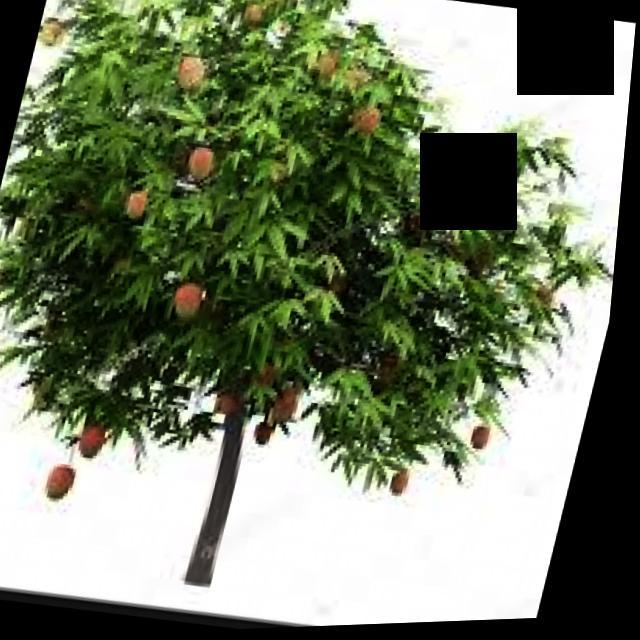Tree: (1, 1, 634, 640)
